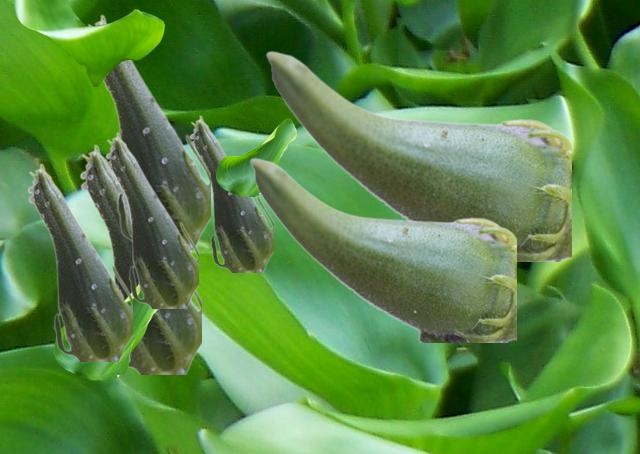okra: (265, 50, 570, 260), (249, 157, 515, 341), (86, 14, 209, 248), (79, 144, 200, 373), (27, 163, 131, 360), (105, 132, 197, 307), (190, 115, 272, 271)
